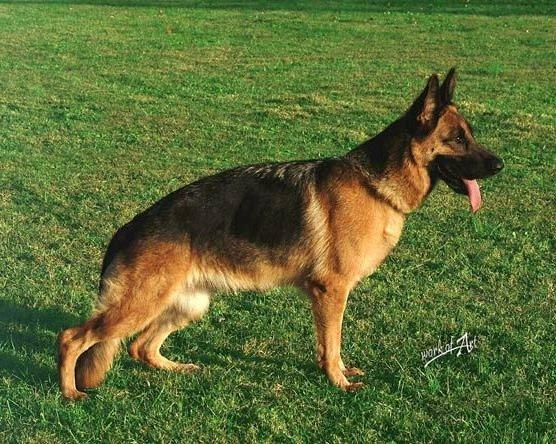German_shepherd: (55, 65, 503, 400)
